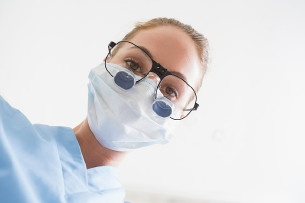Mask: (82, 39, 197, 154)
